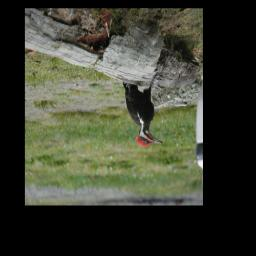Woodpecker: (122, 78, 163, 150)
